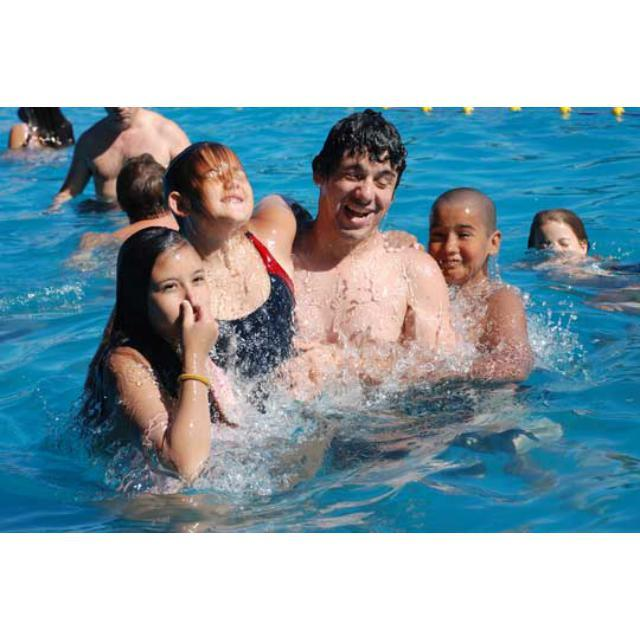human: (287, 112, 447, 404), (175, 112, 297, 385), (93, 223, 219, 482), (421, 181, 534, 396), (42, 107, 198, 225), (109, 152, 189, 240), (523, 197, 607, 258)
